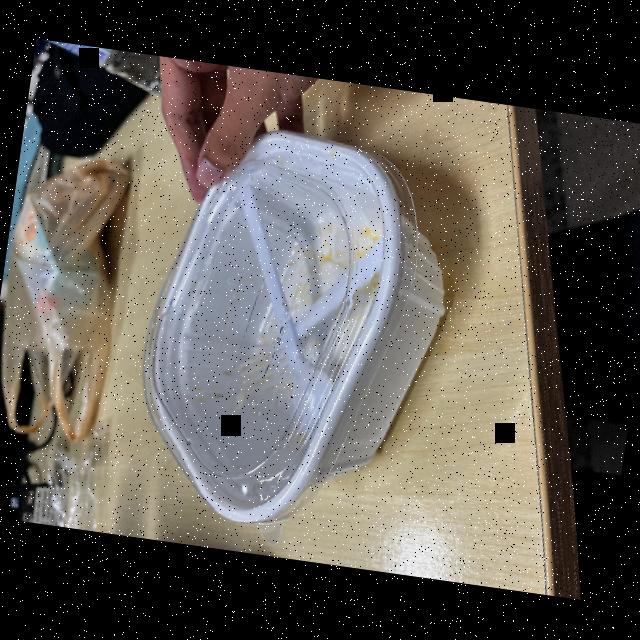plastic_box: (112, 95, 480, 554)
